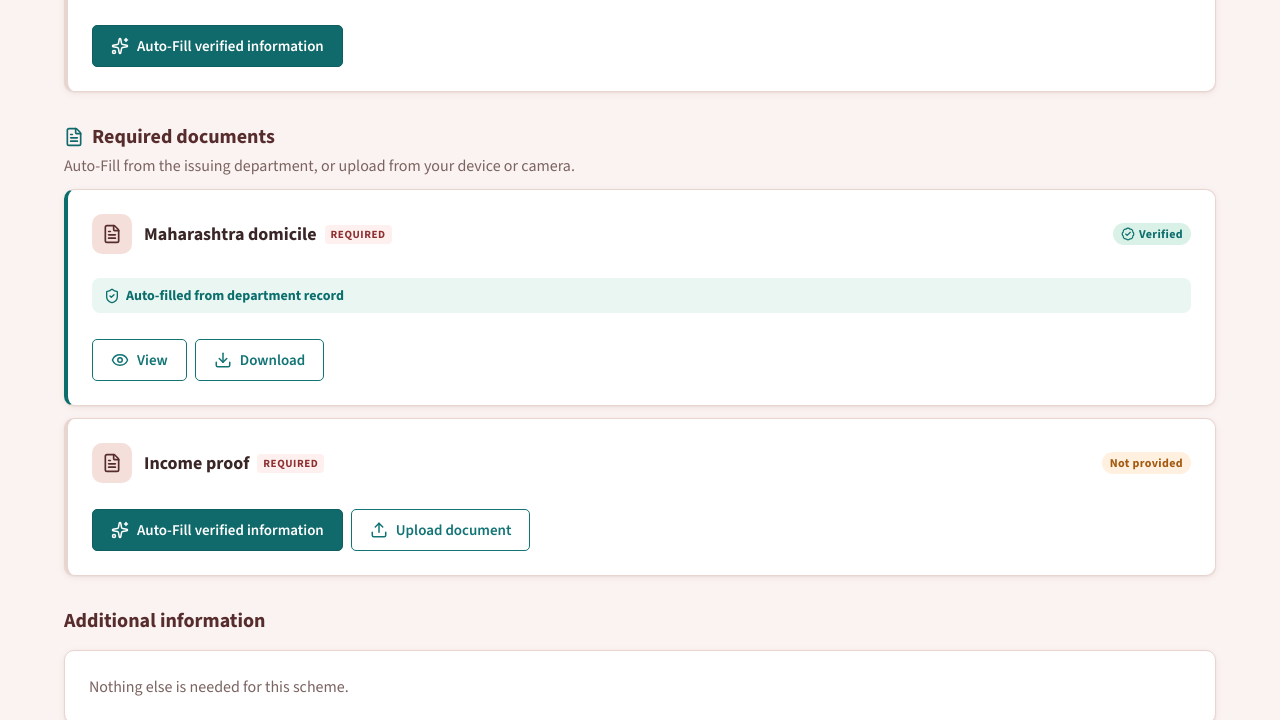
Test: ApplicationFormPage › verified document view/download (Phase 6F2 Task C) › clicking View Document renders the citizen-safe content returned by the backend
(page scrolled)
Click the button "View".
click(139, 360)  # box [92,340,187,382]
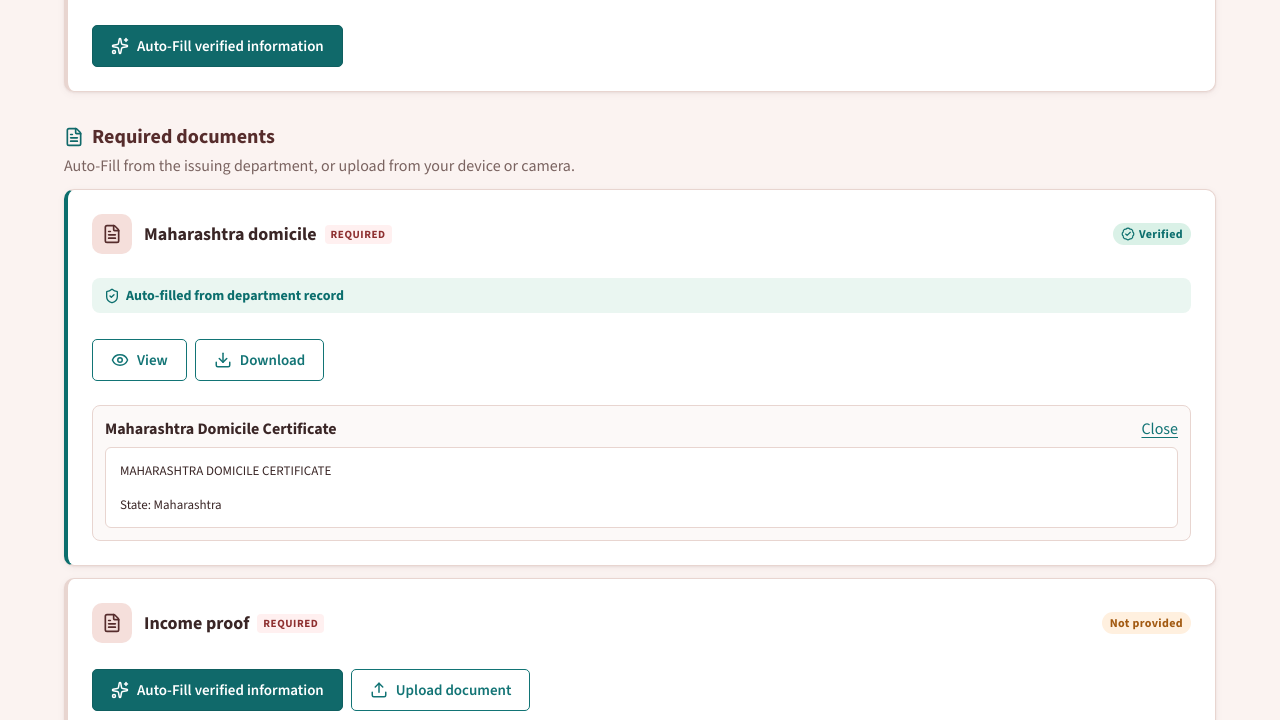
Now the text "Maharashtra Domicile Certificate" is shown, box [105,418,336,440]
Now the text "MAHARASHTRA DOMICILE CERTIFICATE State: Maharashtra" is shown, box [105,448,1178,528]
